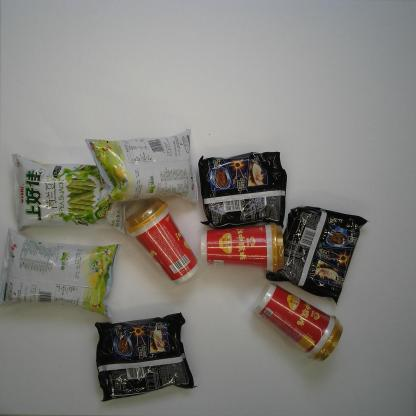Instant Drink: (251, 284, 344, 366), (124, 196, 200, 286), (197, 217, 286, 276)
Instant Noodles: (260, 204, 371, 305), (92, 312, 196, 402), (193, 148, 291, 228)
Puffed Food: (0, 226, 123, 320), (7, 150, 129, 238), (81, 126, 200, 214)
